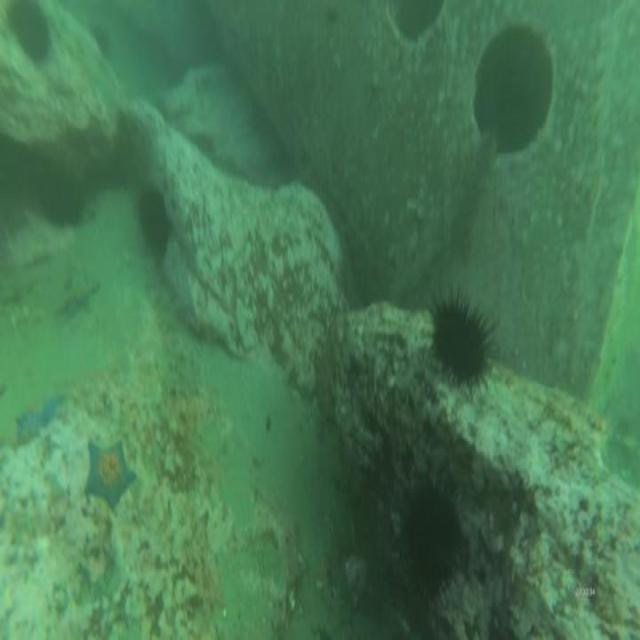echinus: (396, 458, 472, 616), (422, 278, 502, 402), (7, 0, 57, 66), (138, 177, 172, 262)
starfish: (84, 432, 138, 518), (49, 272, 102, 327), (29, 386, 63, 426), (15, 402, 44, 446)
